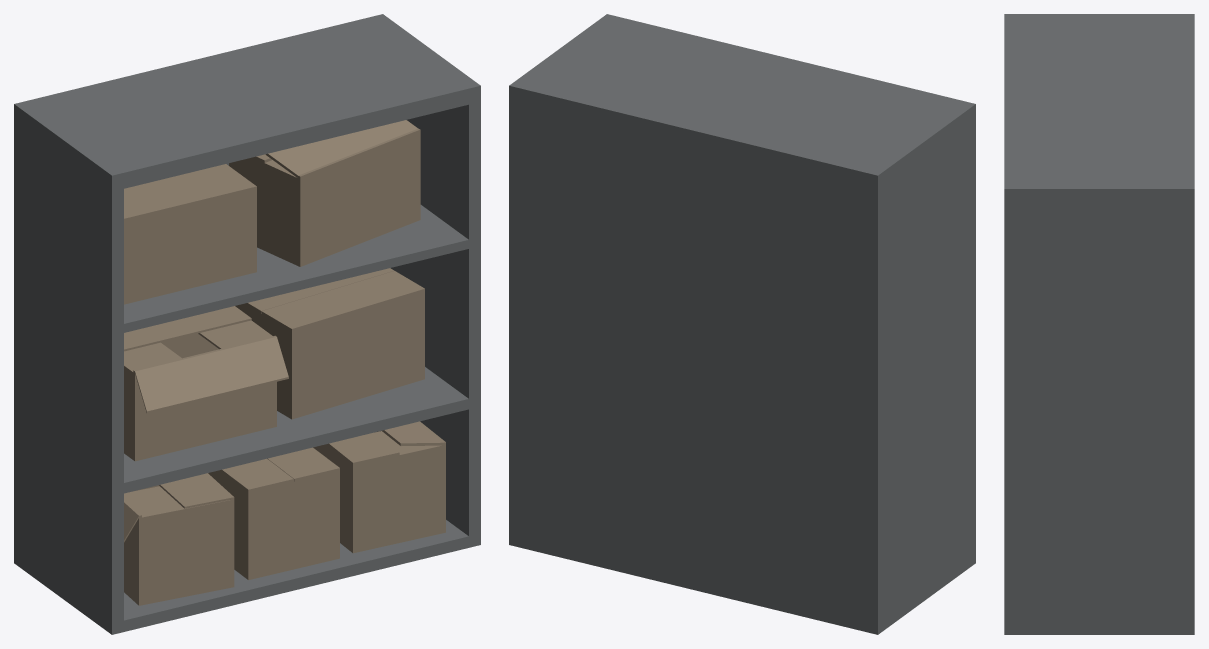
Rendered from tana.fbx.
3 renders of one model, left to right at view 1: azimuth 30°, elevation 25°; view 2: azimuth 150°, elevation 25°; view 3: azimuth 270°, elevation 25°, orthographic. The views are drawn at different scales.
Parts seen in each view (by area): view 1: pCube1, pCube3, pCube5, pCube4, pCube2, pCube6, pCube7, pCube8; view 2: pCube1; view 3: pCube1.
Boxes of the visible parts, left/top/right/bottom form: pCube1: left=14, top=14, right=480, bottom=634; pCube3: left=124, top=306, right=288, bottom=461; pCube5: left=229, top=120, right=420, bottom=266; pCube4: left=235, top=268, right=424, bottom=419; pCube2: left=124, top=164, right=256, bottom=304; pCube6: left=124, top=473, right=234, bottom=605; pCube7: left=208, top=447, right=339, bottom=580; pCube8: left=313, top=421, right=445, bottom=553; pCube1: left=509, top=14, right=975, bottom=634; pCube1: left=1004, top=14, right=1194, bottom=634.
Size of the model in its own units: 65.76 by 78.24 by 30.25.
